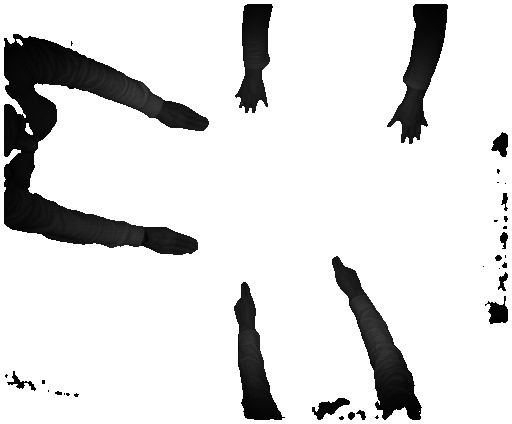hand: (160, 101, 214, 135), (384, 104, 431, 143), (146, 224, 199, 255), (328, 256, 364, 298), (232, 280, 260, 329), (236, 80, 271, 119)
